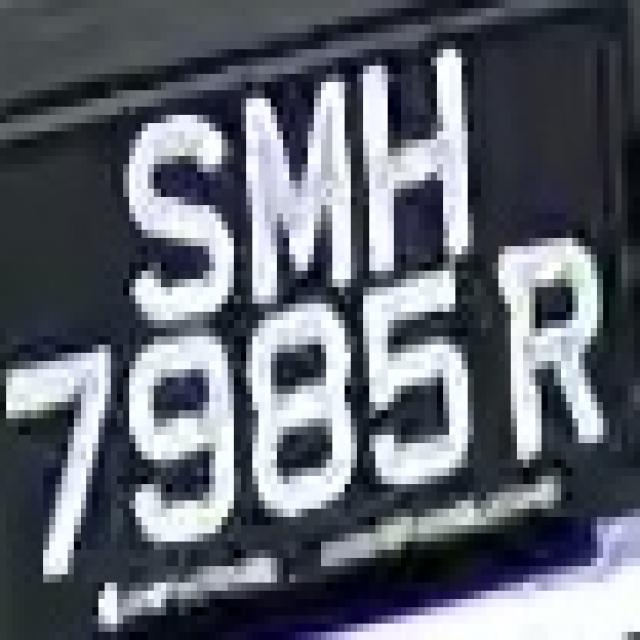5: (351, 246, 492, 533)
7: (6, 312, 117, 582)
8: (234, 295, 363, 517)
9: (123, 287, 246, 542)
H: (332, 16, 492, 279)
M: (215, 66, 351, 328)
R: (480, 213, 615, 484)
S: (98, 82, 234, 336)
